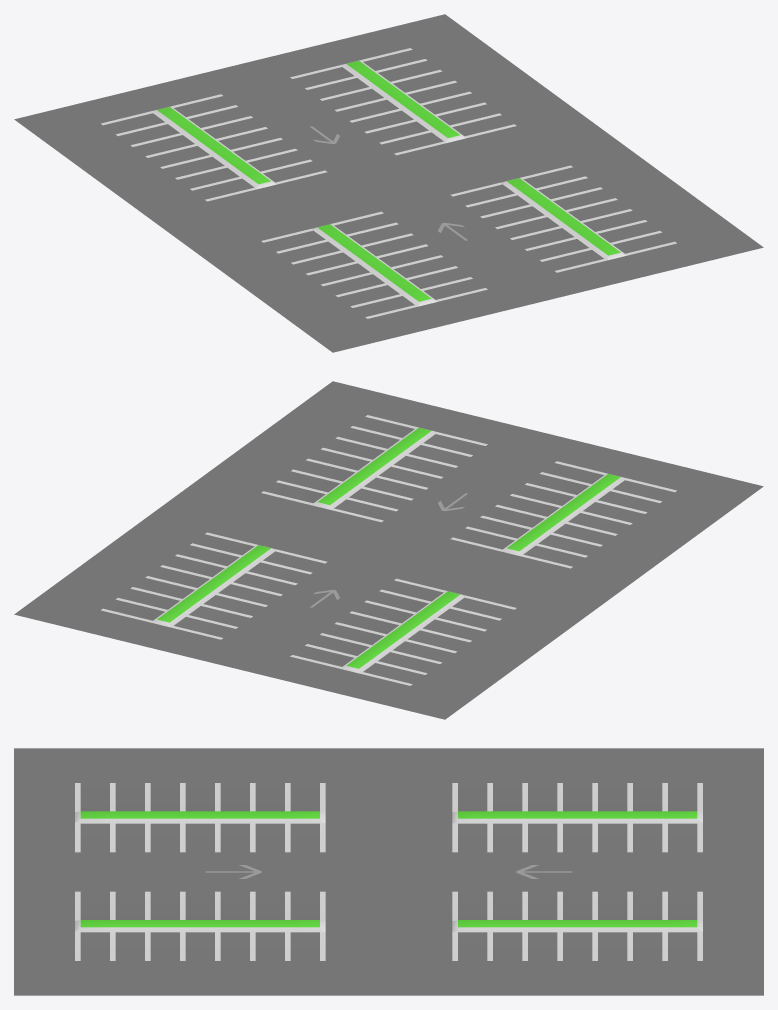
The model's file is ParkingLot.fbx.
3 views of the same model, one above another, from view 1: azimuth 30°, elevation 25°; view 2: azimuth 150°, elevation 25°; view 3: azimuth 270°, elevation 25° (orthographic). The views are drawn at different scales.
Parts seen in each view (by area): view 1: pPlane17; view 2: pPlane17; view 3: pPlane17.
Part boxes in pixels (x1,y1,x2,y2): pPlane17: (14,14,763,352); pPlane17: (14,381,763,719); pPlane17: (14,748,763,995).
Bounding box in the file's own units: 67.4 × 0.3301 × 86.34.
